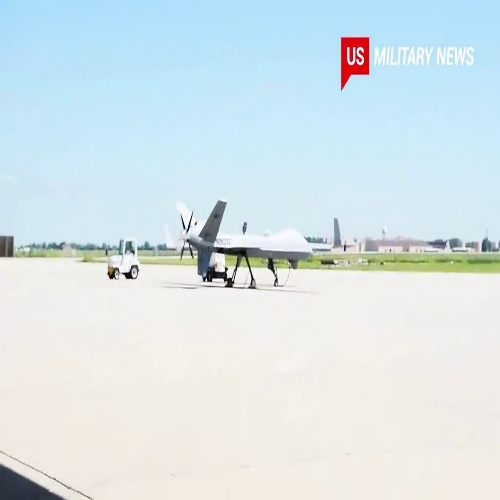uav: (177, 201, 315, 291)
